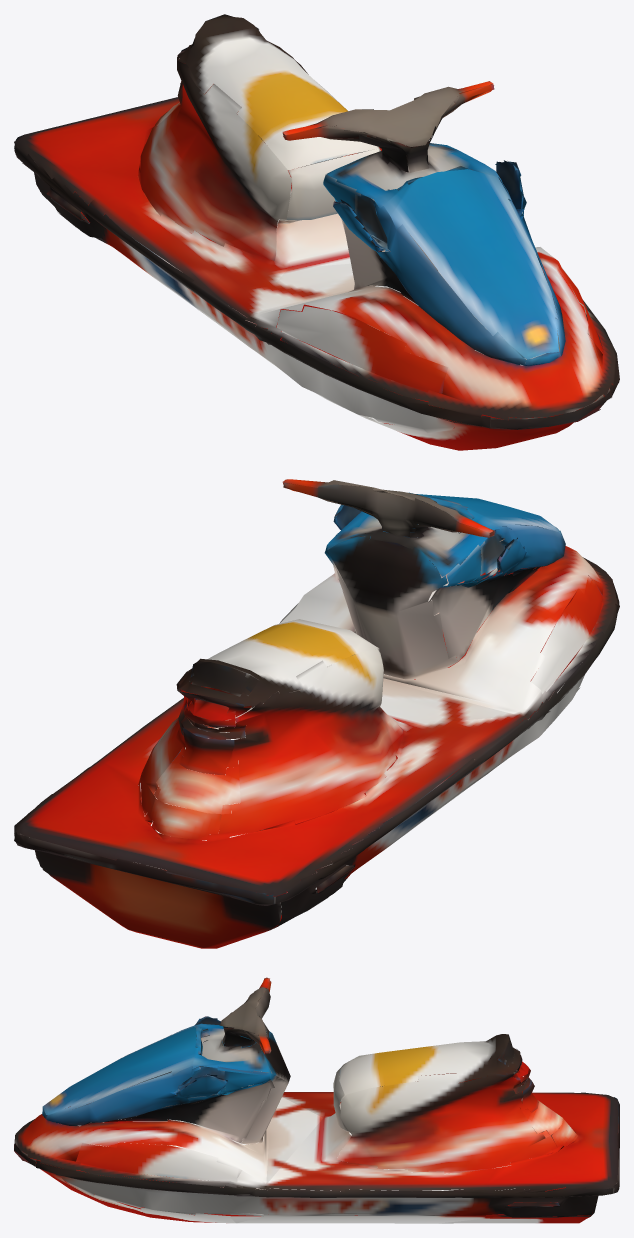
File: jetski.glb
The picture shows the model from 3 angles, top to bottom: view 1: azimuth 30°, elevation 25°; view 2: azimuth 150°, elevation 25°; view 3: azimuth 270°, elevation 25°; orthographic projection. The views are drawn at different scales.
Parts seen in each view (by area): view 1: Object_2; view 2: Object_2; view 3: Object_2.
Boxes of the visible parts, x1,y1,x2,y2 form: Object_2: (14, 14, 619, 450); Object_2: (14, 479, 619, 948); Object_2: (14, 977, 619, 1223).
Bounding box in the file's own units: 0.731 × 0.6951 × 1.9.
Materials: 1 (1 with a texture image).
